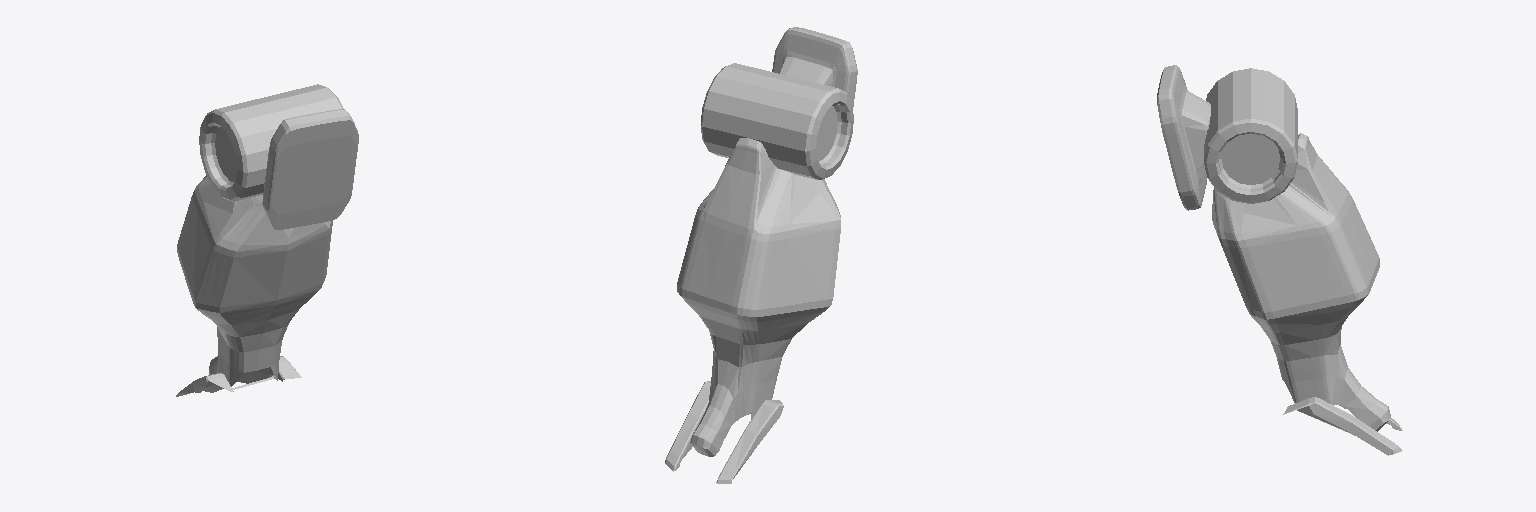
Rendered from Pierna_Izquierda.obj.
3 renders of one model, left to right at view 1: azimuth 30°, elevation 25°; view 2: azimuth 150°, elevation 25°; view 3: azimuth 270°, elevation 25°, orthographic.
Parts seen in each view (by area): view 1: rig_test.001; view 2: rig_test.001; view 3: rig_test.001.
Part boxes in pixels (x1,y1,x2,y2): rig_test.001: (176, 84, 358, 396); rig_test.001: (665, 27, 857, 483); rig_test.001: (1157, 65, 1402, 455).
Size of the model in its own units: 12.65 by 34.74 by 21.56.